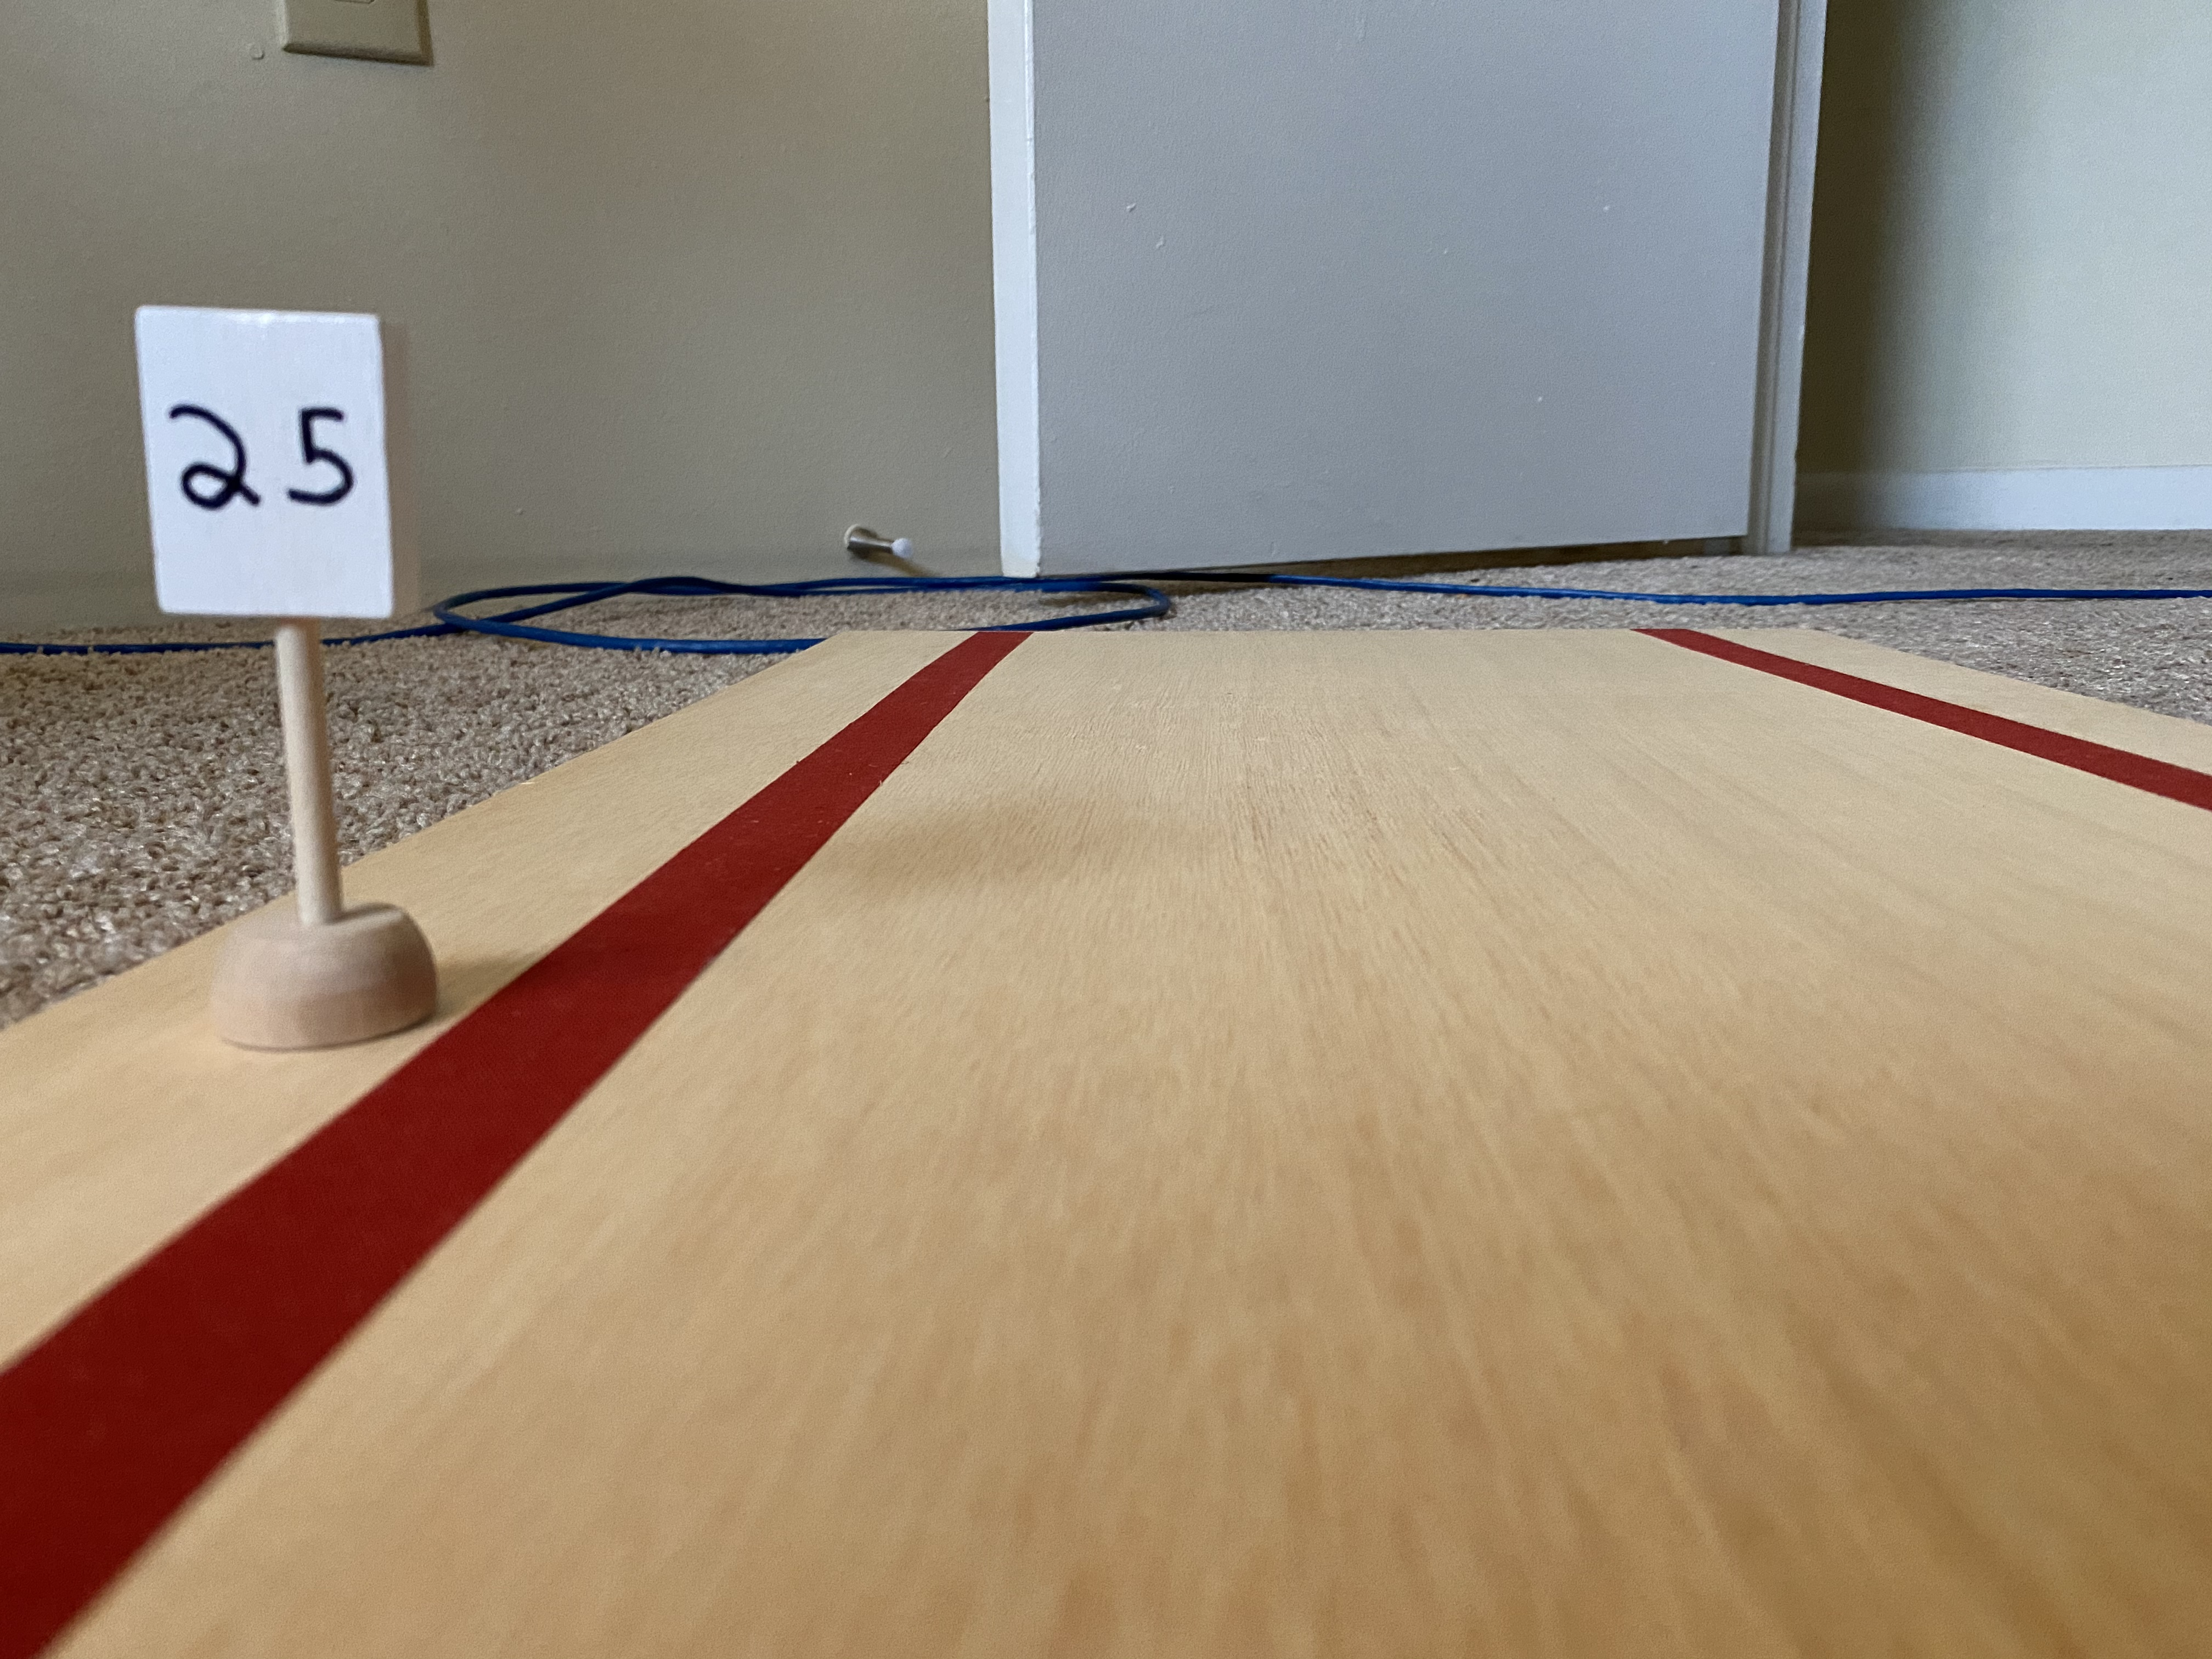Speed Limit 25: (113, 289, 420, 666)
